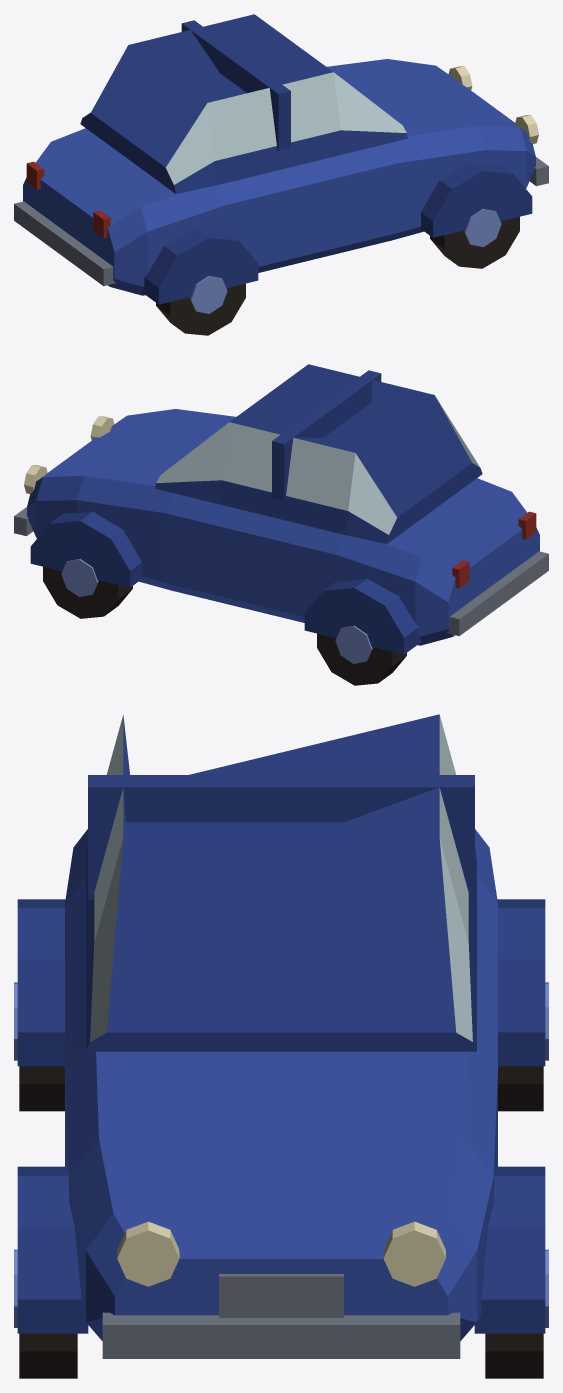
File: car.glb
3 renders of one model, top to bottom at view 1: azimuth 30°, elevation 25°; view 2: azimuth 150°, elevation 25°; view 3: azimuth 270°, elevation 25°, orthographic. The views are drawn at different scales.
Parts seen in each view (by area): view 1: car; view 2: car; view 3: car.
Boxes of the visible parts, left/top/right/bottom form: car: left=14, top=14, right=548, bottom=335; car: left=14, top=364, right=548, bottom=685; car: left=14, top=714, right=548, bottom=1378.
Bounding box in the file's own units: 2.47 × 1.1 × 1.29.
